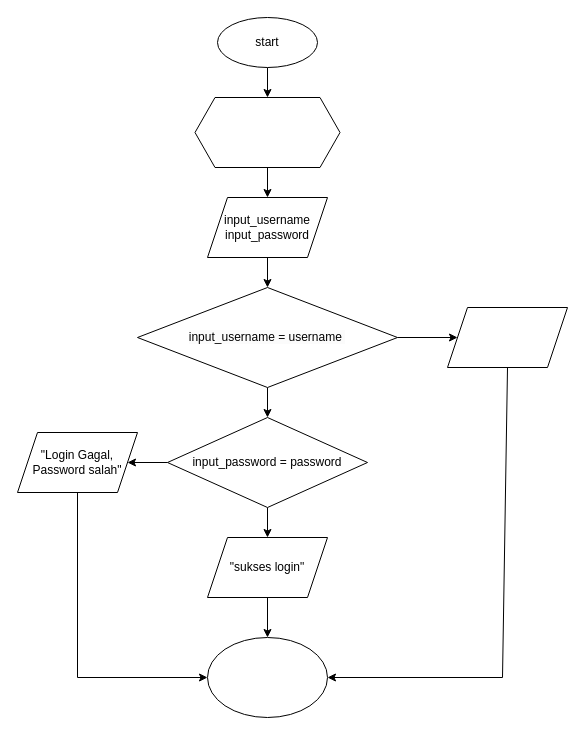
This 585x735 diagram has some shape labels left out. Each missing label, with the centre of its shape:
"Login Gagal, Username tidak ditemukan": point 507,337
end: point 267,677
string username, input_username, string password, input_password: point 267,132
